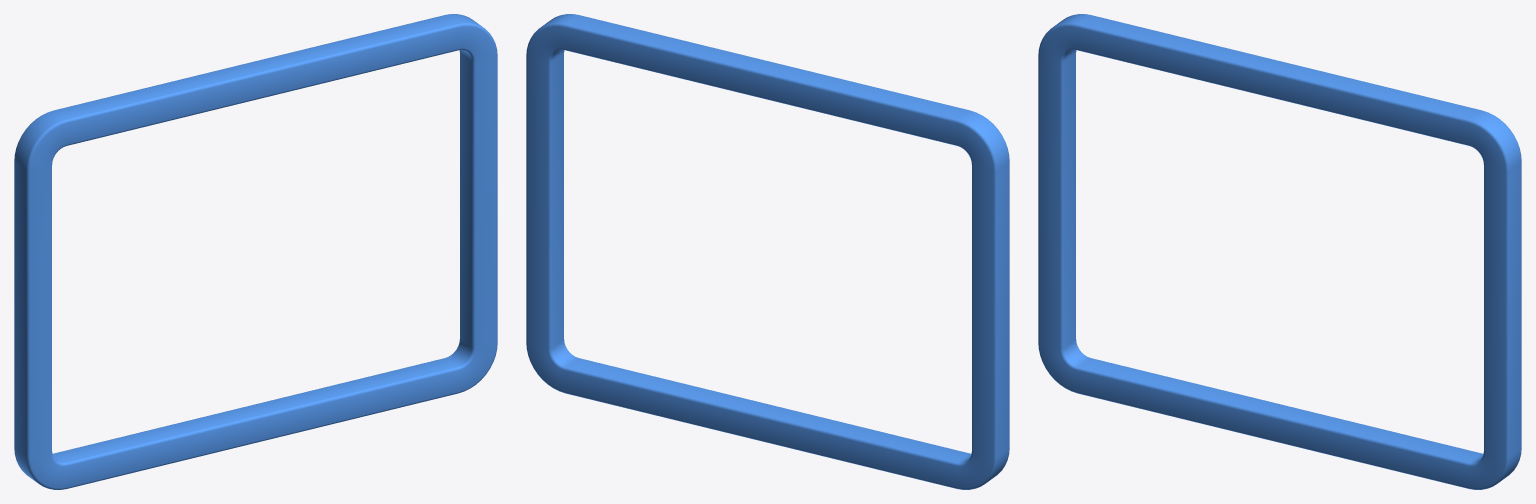
File: marco-camara-azul.glb
3 views of the same model, side by side, from view 1: azimuth 30°, elevation 25°; view 2: azimuth 150°, elevation 25°; view 3: azimuth 330°, elevation 25° (orthographic).
Visible parts, largest first — view 1: marco; view 2: marco; view 3: marco.
Part boxes in pixels (box(x1,y1,x2,y2)): marco: box(14, 14, 497, 489); marco: box(526, 14, 1009, 489); marco: box(1038, 14, 1521, 489).
Size of the model in its own units: 2.6 by 1.95 by 0.14.
